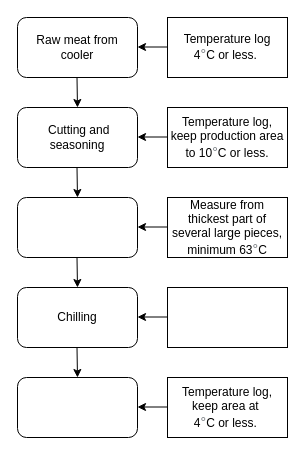
This 305x455 diagram has some shape labels left out. Each missing label, with the centre of its shape:
"Cooking" belongs at point 77,227.
"Cooling log, product must go from 54 ° C to 4 ° C within 7 hours" belongs at point 227,317.
"Packaging" belongs at point 77,407.
